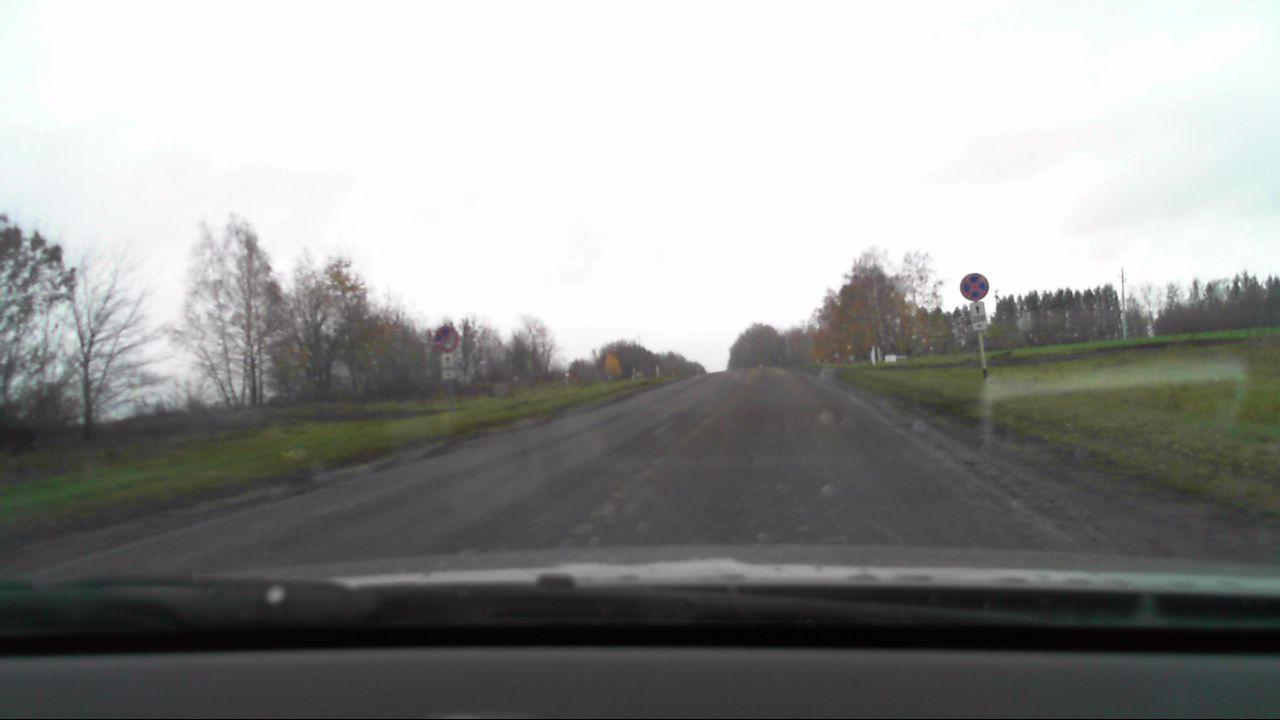3_27: (957, 271, 990, 301), (430, 324, 460, 351)
8_2_2: (969, 302, 988, 331), (440, 352, 457, 378)
